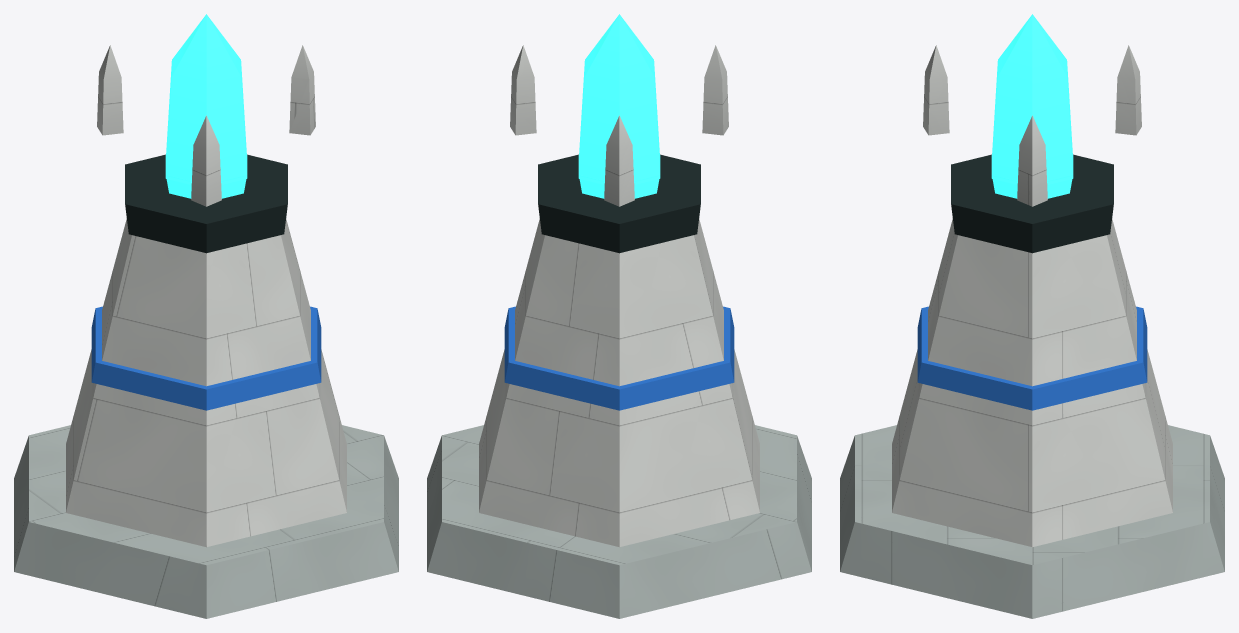
The model's file is energia_torre.glb.
3 views of the same model, side by side, from view 1: azimuth 30°, elevation 25°; view 2: azimuth 150°, elevation 25°; view 3: azimuth 270°, elevation 25° (orthographic).
Parts seen in each view (by area): view 1: Body_Shell, Body_ShellAlt, Body_Core, Turret_Glow, Body_TeamColor, Turret_Shell; view 2: Body_Shell, Body_ShellAlt, Body_Core, Turret_Glow, Body_TeamColor, Turret_Shell; view 3: Body_Shell, Body_ShellAlt, Body_Core, Turret_Glow, Body_TeamColor, Turret_Shell.
Boxes of the visible parts, left/top/right/bottom form: Body_Shell: left=66, top=218, right=346, bottom=547; Body_ShellAlt: left=14, top=425, right=398, bottom=618; Body_Core: left=125, top=154, right=287, bottom=253; Turret_Glow: left=165, top=14, right=247, bottom=198; Body_TeamColor: left=91, top=306, right=321, bottom=410; Turret_Shell: left=97, top=45, right=315, bottom=206; Body_Shell: left=479, top=218, right=759, bottom=547; Body_ShellAlt: left=427, top=425, right=811, bottom=618; Body_Core: left=538, top=154, right=700, bottom=253; Turret_Glow: left=578, top=14, right=660, bottom=198; Body_TeamColor: left=504, top=306, right=734, bottom=410; Turret_Shell: left=510, top=45, right=728, bottom=206; Body_Shell: left=892, top=218, right=1172, bottom=547; Body_ShellAlt: left=840, top=425, right=1224, bottom=618; Body_Core: left=951, top=154, right=1113, bottom=253; Turret_Glow: left=991, top=14, right=1073, bottom=198; Body_TeamColor: left=917, top=306, right=1147, bottom=410; Turret_Shell: left=923, top=45, right=1141, bottom=206.
Bounding box in the file's own units: 5.2 × 6.6 × 4.5.
Materials: 5 (2 with a texture image).
